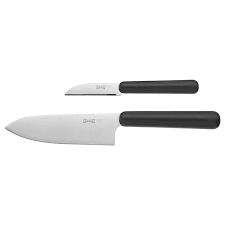kuchillu: (1, 108, 221, 149), (58, 76, 209, 98)
